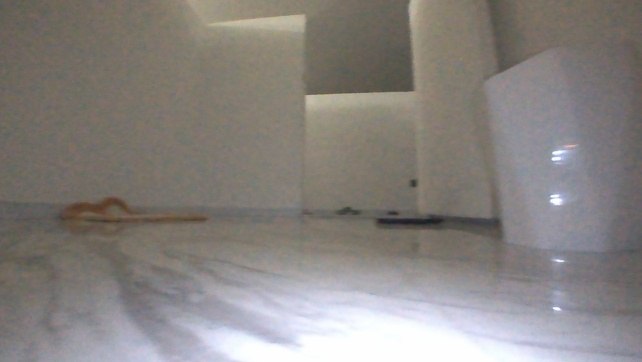blanket: (48, 193, 213, 225)
toilet: (479, 40, 640, 257)
weight_scale: (372, 208, 443, 231)
